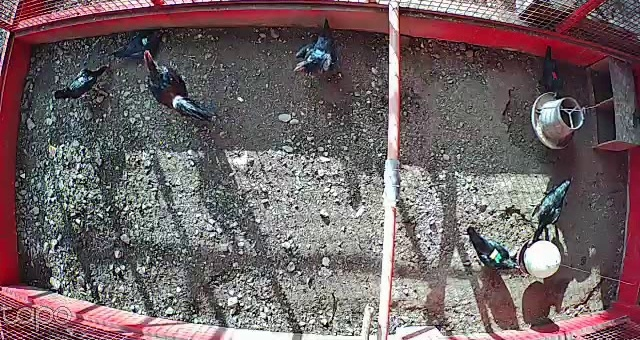Chicken: (108, 25, 178, 65), (532, 42, 570, 106), (52, 64, 107, 101)
Rooster: (139, 47, 212, 126)
Saddle_Color_Red: (550, 71, 558, 81)
Saddle_Color_YellowGreen: (491, 248, 501, 265)
